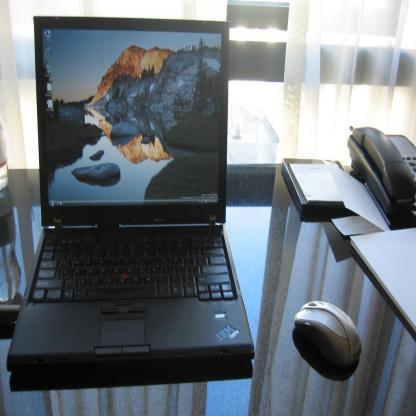board: (8, 15, 254, 365)
